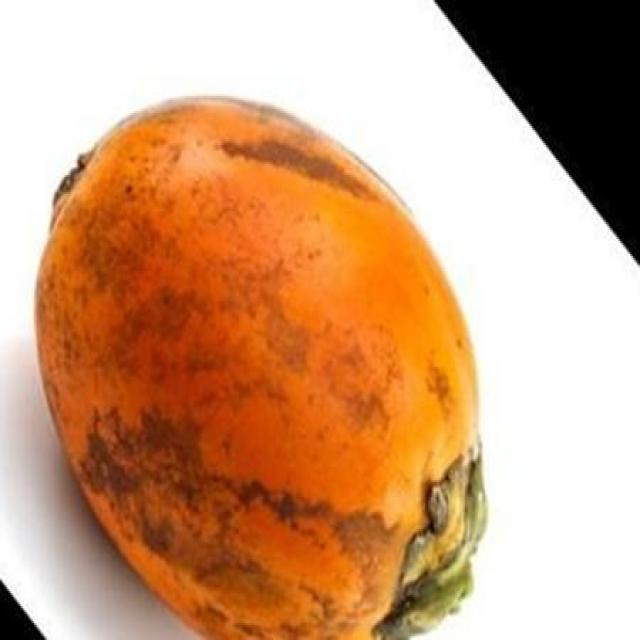good: (34, 98, 489, 638)
